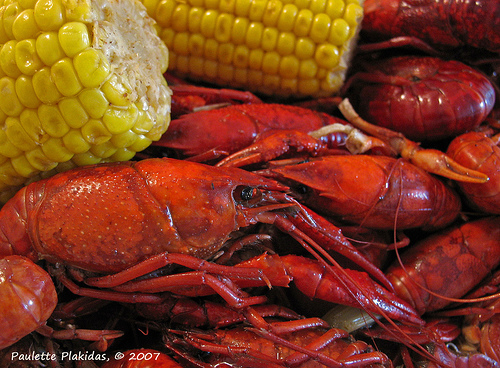corn: (0, 1, 174, 187), (148, 0, 363, 101)
